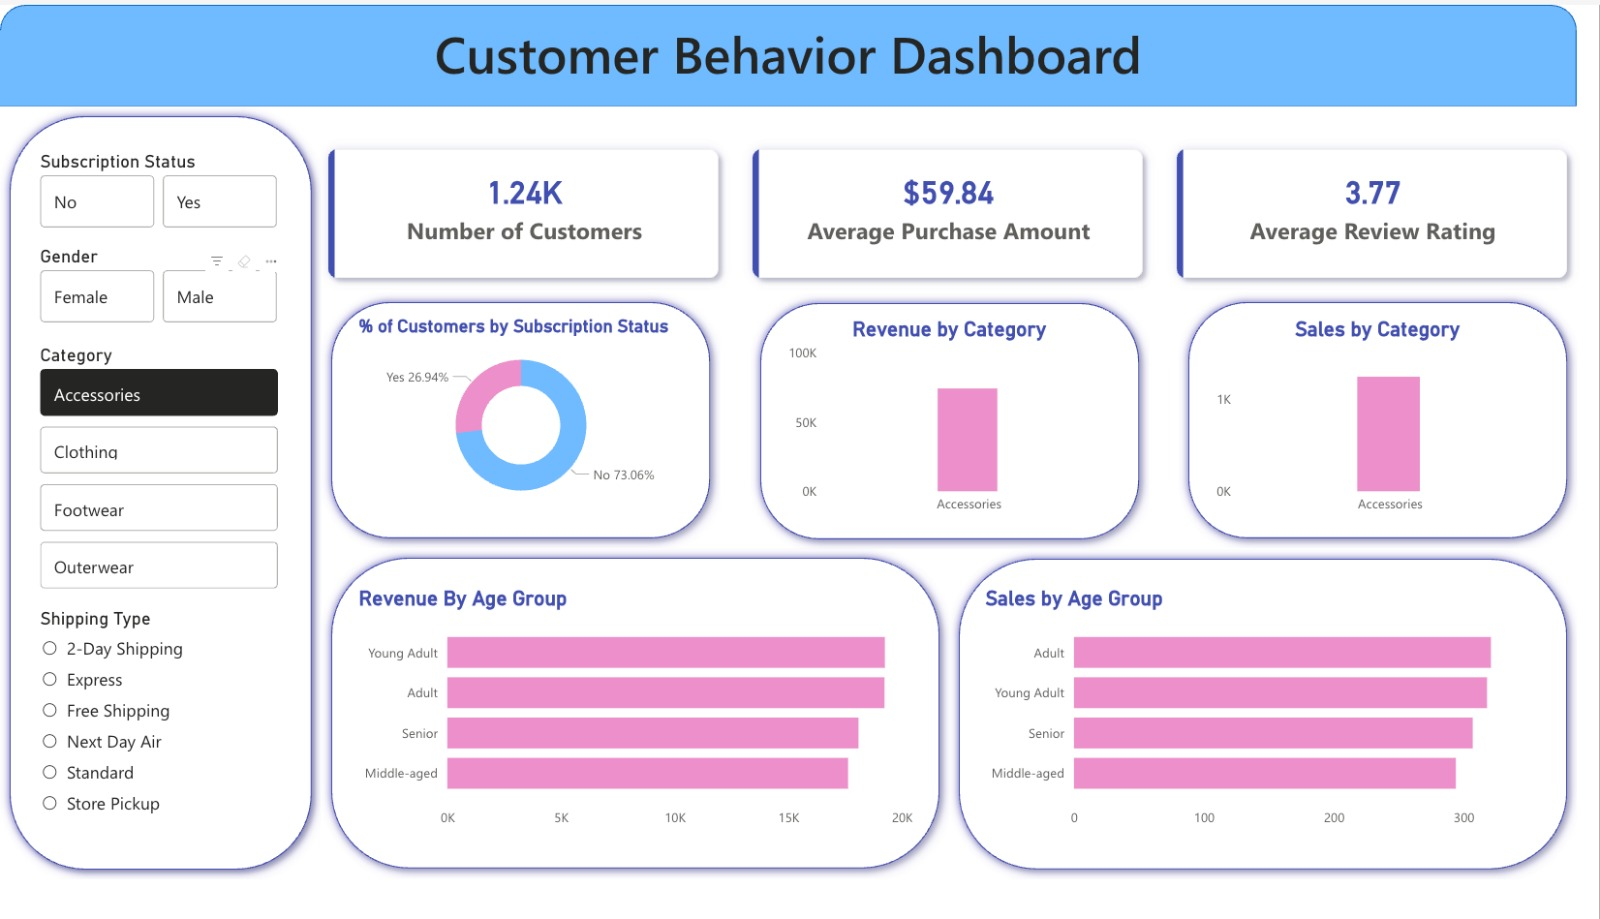

This screenshot's page, from the dashboard's own definition file:
{"tool":"powerbi","page":{"name":"Page 1","canvas":[1500,820],"ordinal":0},"visuals":[{"type":"cardVisual","fields":{"Data":["CountNonNull(customer_shopping_behavior 2.customer_id)","Avg(customer_shopping_behavior 2.purchase_amount)","Avg(customer_shopping_behavior 2.review_rating)"]},"box":[279.3,105.9,1220.7,179.2],"z":0},{"type":"shape","box":[0,0,1479.1,95.4],"z":1000},{"type":"textbox","box":[0,7,1479.1,81.5],"z":2000},{"type":"shape","box":[301.4,270,373.5,239.7],"z":3000},{"type":"donutChart","title":"% of Customers by Subscription Status","fields":{"Category":["customer_shopping_behavior 2.subscription_status"],"Y":["CountNonNull(customer_shopping_behavior 2.customer_id)"]},"box":[331.7,294.4,314.2,185],"z":4000},{"type":"shape","box":[1105.5,270,373.5,239.7],"z":5000},{"type":"shape","box":[704,271.1,373.5,239.7],"z":6000},{"type":"clusteredColumnChart","title":"Revenue by Category","fields":{"Y":["Sum(customer_shopping_behavior 2.purchase_amount)"],"Category":["customer_shopping_behavior 2.category"]},"box":[734.3,294.4,313,192],"z":7000},{"type":"clusteredColumnChart","title":"Sales by Category","fields":{"Category":["customer_shopping_behavior 2.category"],"Y":["CountNonNull(customer_shopping_behavior 2.customer_id)"]},"box":[1135.8,294.4,313,192],"z":8000},{"type":"shape","box":[0,95.4,301.4,725],"z":9000},{"type":"advancedSlicerVisual","title":"Subscription Status","fields":{"Values":["customer_shopping_behavior 2.subscription_status"]},"box":[32.6,139.6,233.9,74.5],"z":10000},{"type":"advancedSlicerVisual","title":"Gender","fields":{"Values":["customer_shopping_behavior 2.gender"]},"box":[32.6,229.2,233.9,74.5],"z":11000},{"type":"advancedSlicerVisual","title":"Category","fields":{"Values":["customer_shopping_behavior 2.category"]},"box":[32.6,321.2,233.9,233.9],"z":12000},{"type":"listSlicer","title":"Shipping Type","fields":{"Values":["customer_shopping_behavior 2.shipping_type"]},"box":[32.6,569,225.8,203.6],"z":13000},{"type":"shape","box":[890.2,510.9,588.8,309.5],"z":16000},{"type":"clusteredBarChart","title":"Sales  by Age Group","fields":{"Category":["customer_shopping_behavior 2.age_group"],"Y":["CountNonNull(customer_shopping_behavior 2.customer_id)"]},"box":[919.3,546.9,529.5,233.9],"z":17000},{"type":"shape","box":[301.4,509.7,588.8,309.5],"z":17001},{"type":"clusteredBarChart","title":"Revenue By Age Group","fields":{"Category":["customer_shopping_behavior 2.age_group"],"Y":["Sum(customer_shopping_behavior 2.purchase_amount)"]},"box":[331.7,546.9,529.5,233.9],"z":17002}]}

Visuals, with their boxes in screenshot pixels (x1, y1, x2, y2):
cardVisual - CountNonNull(customer_shopping_behavior 2.customer_id) x Avg(customer_shopping_behavior 2.purchase_amount): box=[302, 111, 1586, 300]
shape: box=[8, 0, 1564, 100]
textbox: box=[8, 7, 1564, 93]
shape: box=[325, 284, 718, 536]
"% of Customers by Subscription Status" donutChart: box=[357, 310, 688, 504]
shape: box=[1171, 284, 1564, 536]
shape: box=[749, 285, 1142, 537]
"Revenue by Category" clusteredColumnChart: box=[781, 310, 1110, 512]
"Sales by Category" clusteredColumnChart: box=[1203, 310, 1532, 512]
shape: box=[8, 100, 325, 863]
"Subscription Status" advancedSlicerVisual: box=[43, 147, 289, 225]
"Gender" advancedSlicerVisual: box=[43, 241, 289, 319]
"Category" advancedSlicerVisual: box=[43, 338, 289, 584]
"Shipping Type" listSlicer: box=[43, 599, 280, 813]
shape: box=[945, 537, 1564, 863]
"Sales  by Age Group" clusteredBarChart: box=[975, 575, 1532, 821]
shape: box=[325, 536, 945, 862]
"Revenue By Age Group" clusteredBarChart: box=[357, 575, 914, 821]
